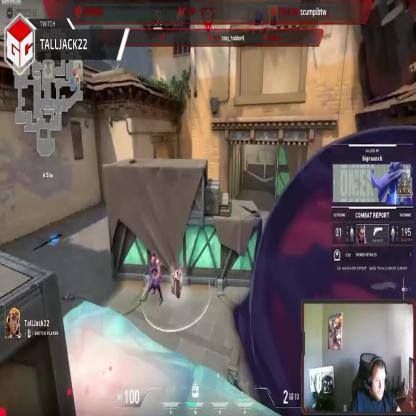enemy: (148, 250, 163, 309)
enemy_head: (151, 251, 156, 262)
